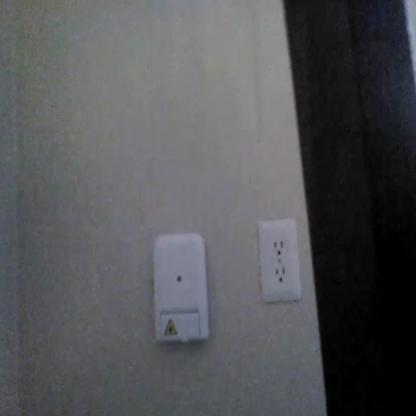OUTLET: (257, 220, 301, 301)
